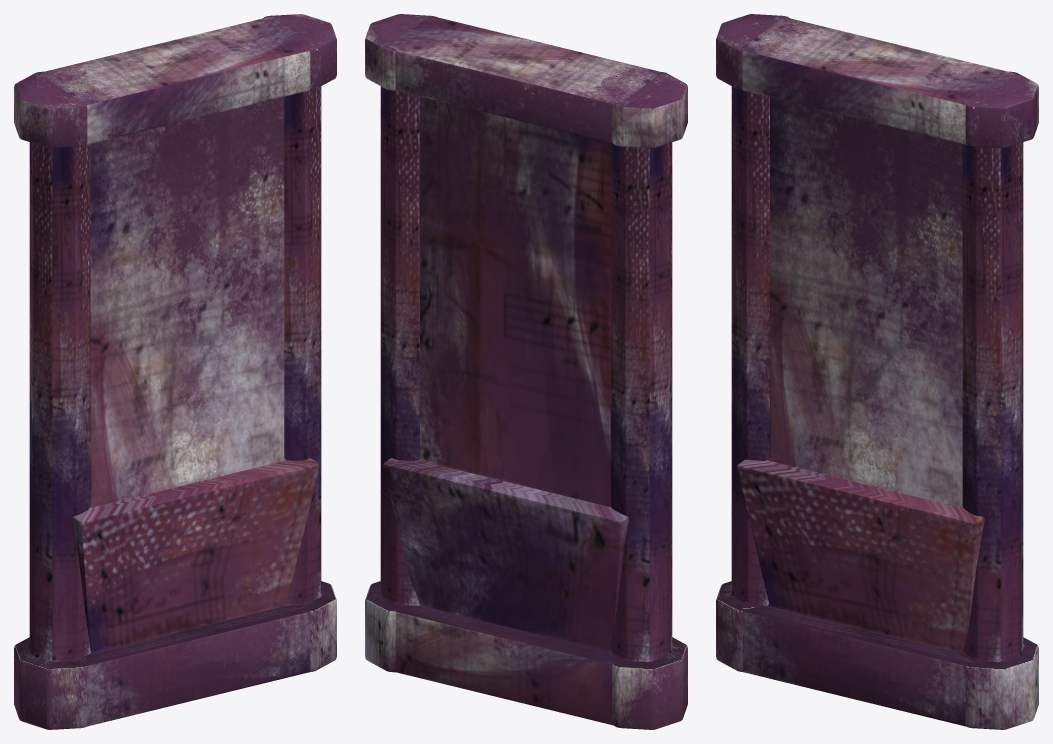
File: MANOR_WALL_1_002.obj
The picture shows the model from 3 angles, left to right: view 1: azimuth 30°, elevation 25°; view 2: azimuth 150°, elevation 25°; view 3: azimuth 330°, elevation 25°; orthographic projection.
Parts seen in each view (by area): view 1: MANOR_WALL_1_002; view 2: MANOR_WALL_1_002; view 3: MANOR_WALL_1_002.
Part boxes in pixels (x1,y1,x2,y2): MANOR_WALL_1_002: [14, 14, 336, 729]; MANOR_WALL_1_002: [365, 14, 687, 729]; MANOR_WALL_1_002: [716, 14, 1038, 729].
Bounding box in the file's own units: 1.57 × 3 × 0.4138.
